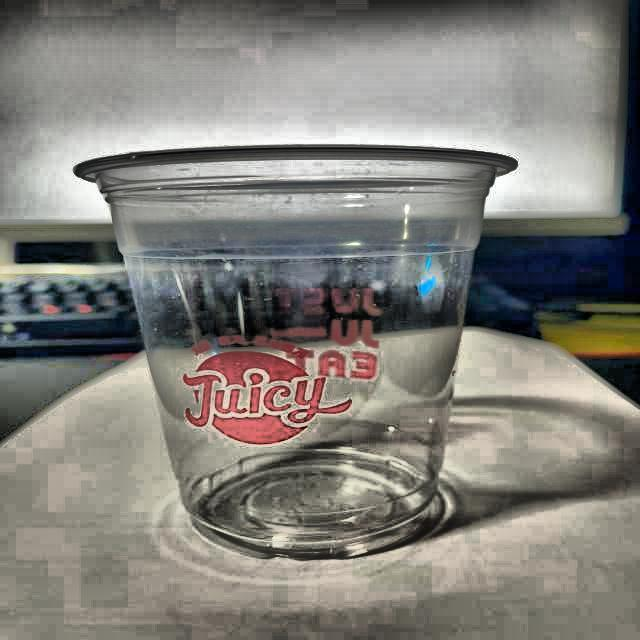plastic cup: (68, 138, 526, 564)
